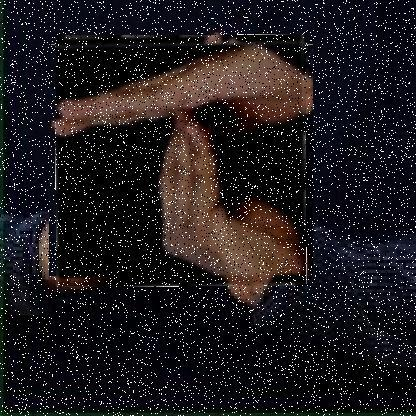Z: (55, 35, 306, 287)
